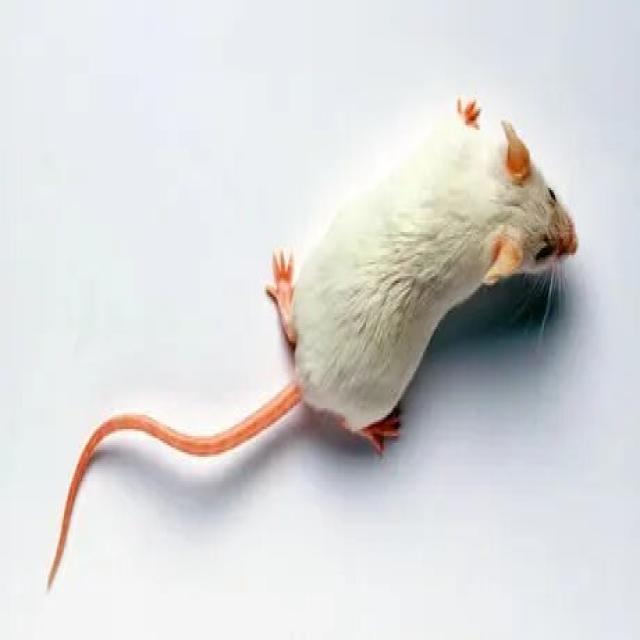rodent: (240, 92, 596, 470)
